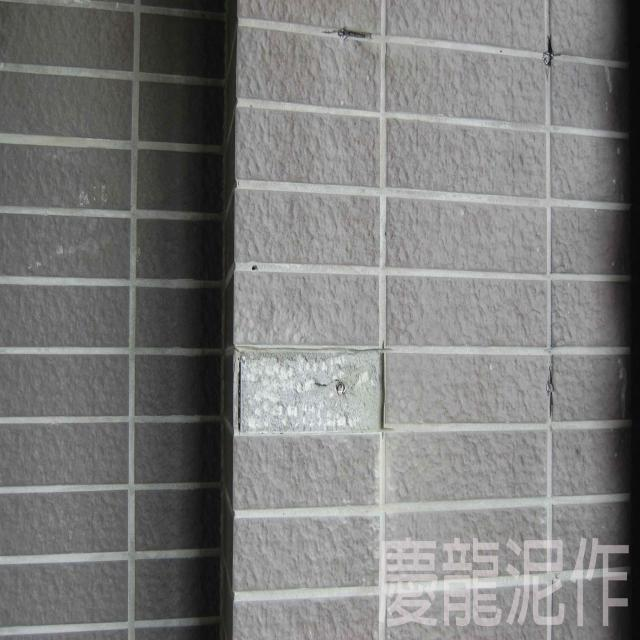Crack: (323, 27, 372, 40), (545, 367, 556, 416), (543, 38, 554, 84)
tile: (233, 355, 378, 428)
